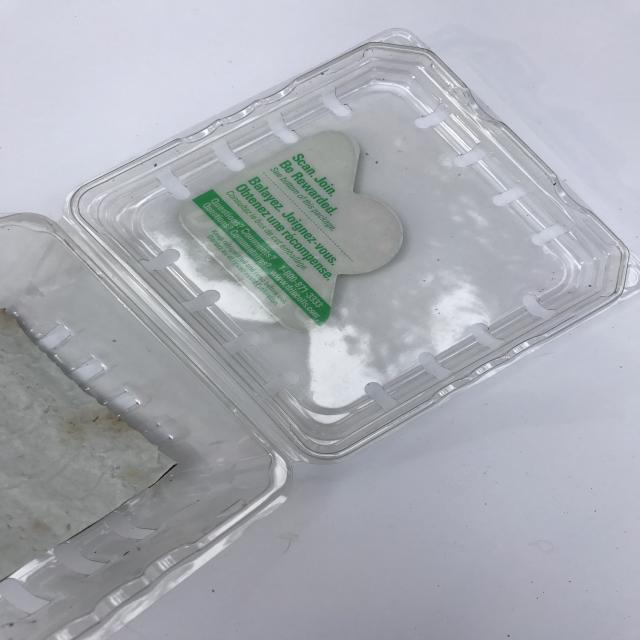plastic: (1, 27, 640, 639)
